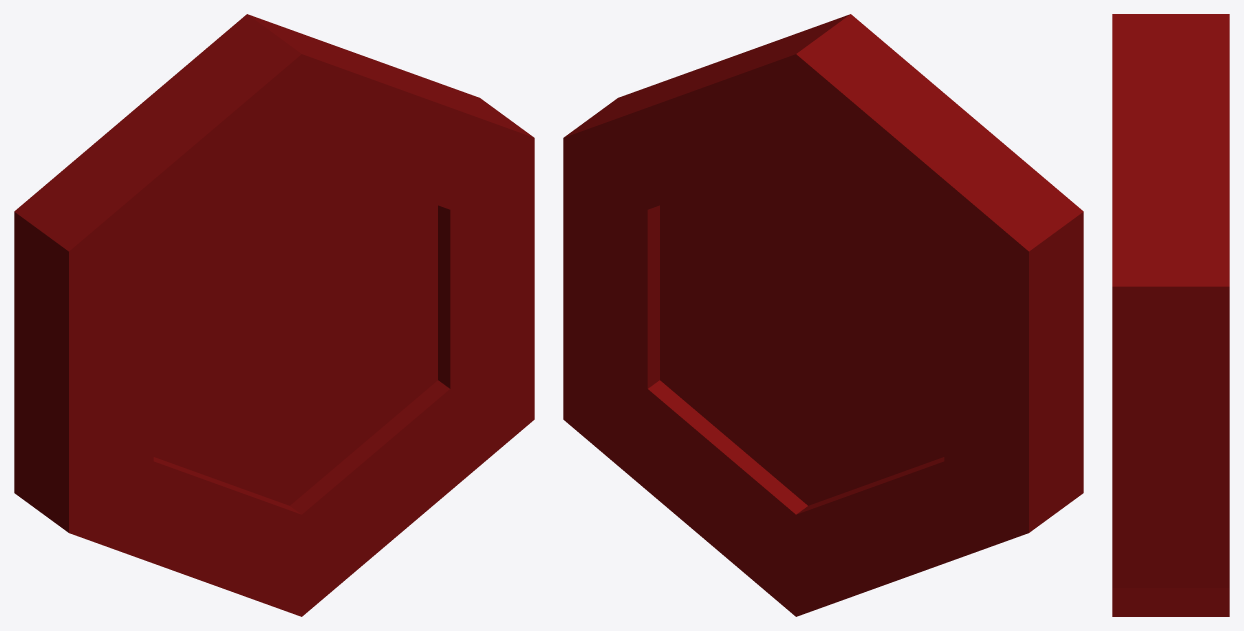
Rendered from gem.obj.
3 views of the same model, side by side, from view 1: azimuth 30°, elevation 25°; view 2: azimuth 150°, elevation 25°; view 3: azimuth 270°, elevation 25° (orthographic). The views are drawn at different scales.
Visible parts, largest first — view 1: Coin; view 2: Coin; view 3: Coin.
Boxes of the visible parts, left/top/right/bottom form: Coin: left=14, top=14, right=534, bottom=616; Coin: left=563, top=14, right=1083, bottom=616; Coin: left=1112, top=14, right=1229, bottom=616.
Size of the model in its own units: 0.7624 by 0.8804 by 0.1553.
1 material, 1 textured.
